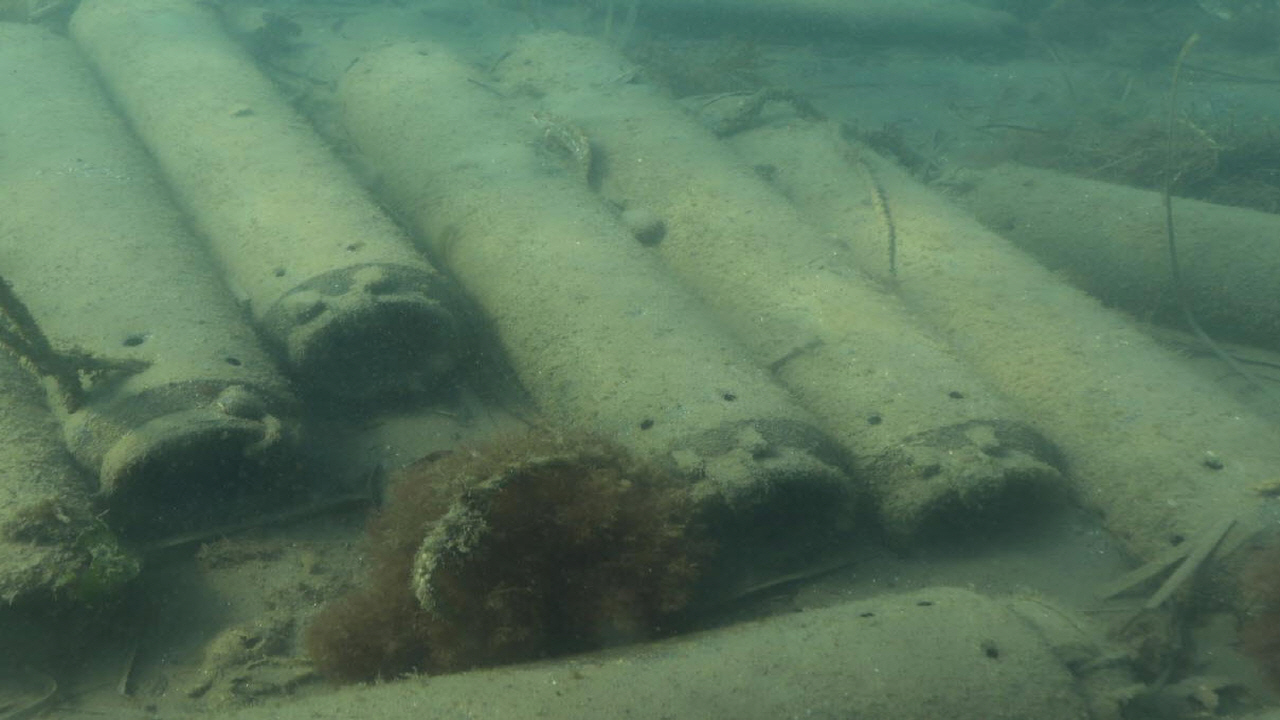eel fish trap: (689, 89, 1280, 619), (487, 31, 1067, 555), (339, 36, 856, 571), (65, 0, 469, 395), (0, 21, 298, 500), (200, 584, 1094, 720), (960, 158, 1280, 342)
rope: (412, 448, 605, 614)
